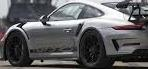Cars: (2, 1, 148, 69)
